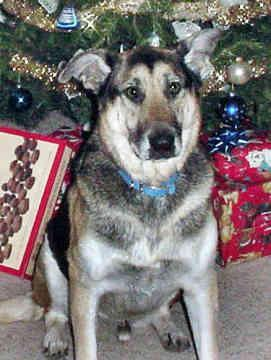German_shepherd: (0, 28, 237, 359)
